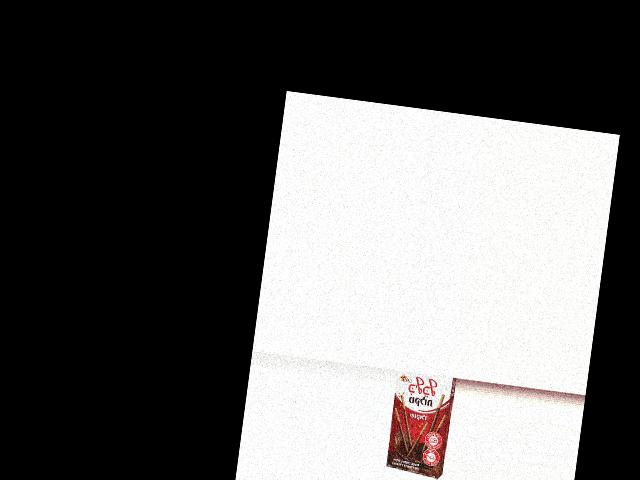chocolate: (384, 370, 455, 472)
